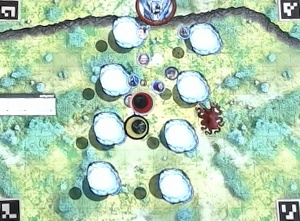giant_red_octopus: (202, 107, 225, 130)
lime_green_violet: (126, 115, 149, 138)
red: (131, 90, 154, 112)
